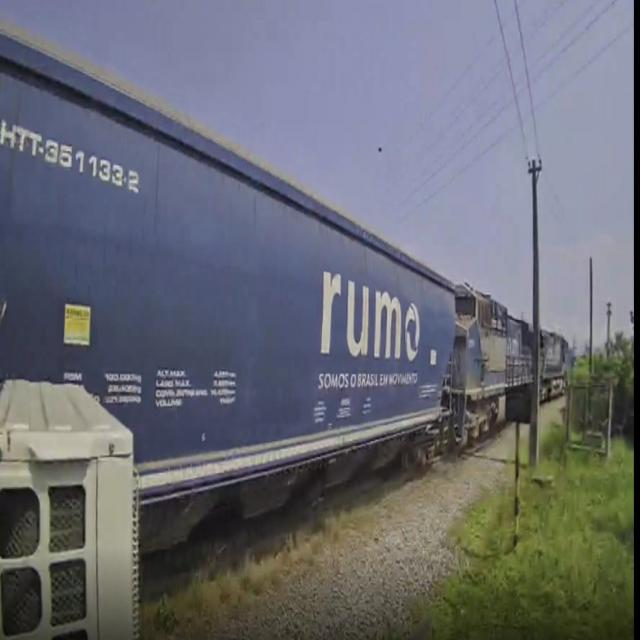hopper: (2, 17, 466, 596)
locomotive: (456, 282, 536, 445), (538, 322, 572, 403)
